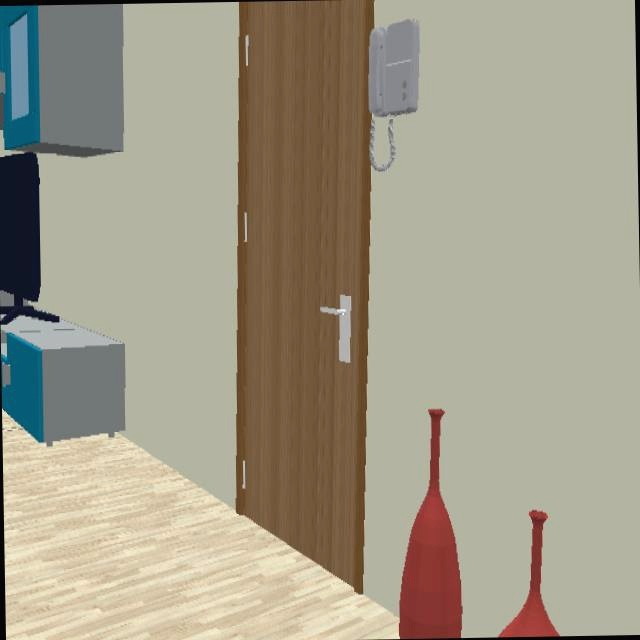cabinet: (0, 3, 123, 151), (0, 318, 125, 444)
monitor: (0, 152, 59, 325)
